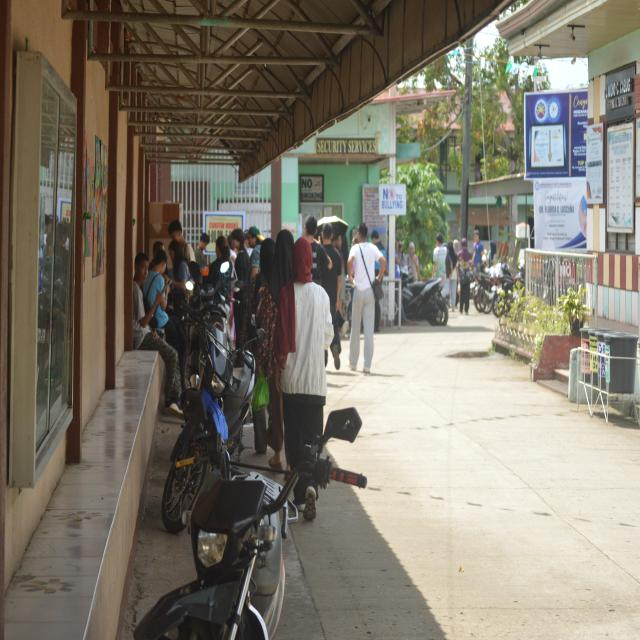person: (275, 238, 333, 468), (133, 253, 183, 418), (347, 223, 386, 373), (322, 223, 341, 369), (154, 233, 210, 268), (305, 216, 332, 285), (168, 220, 195, 262), (458, 239, 472, 314), (248, 226, 264, 278), (447, 241, 457, 310), (473, 230, 485, 268), (408, 242, 418, 282)
